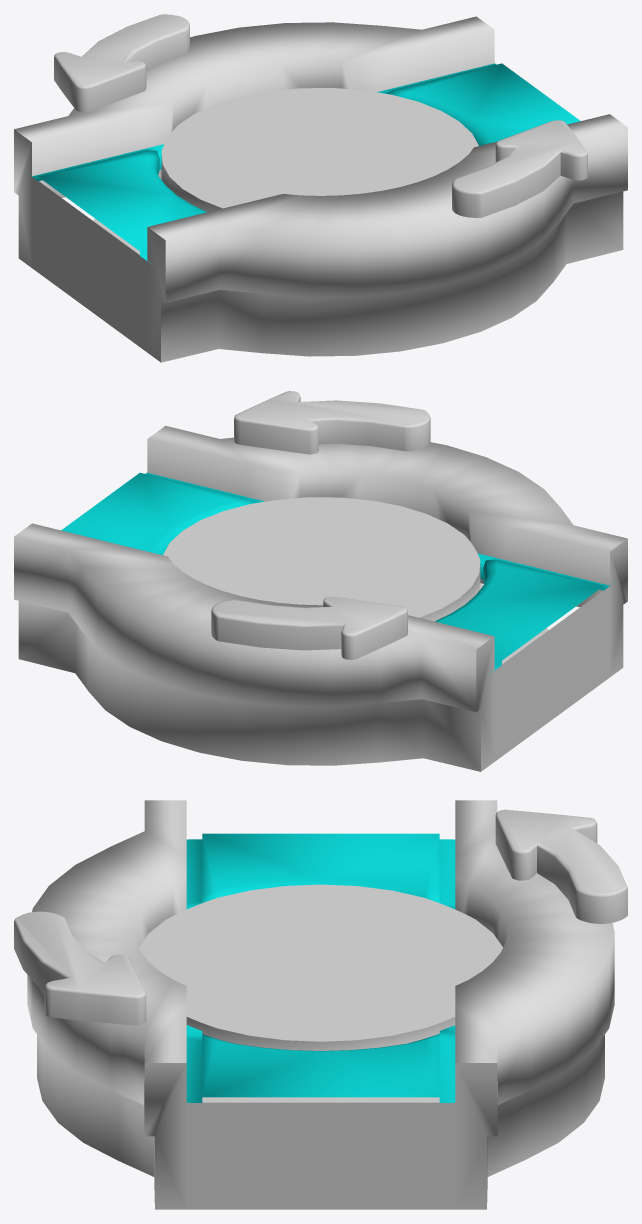
File: RotatorOneQuadCCWInternalVariant.gltf
3 views of the same model, one above another, from view 1: azimuth 30°, elevation 25°; view 2: azimuth 150°, elevation 25°; view 3: azimuth 270°, elevation 25° (orthographic). The views are drawn at different scales.
Parts seen in each view (by area): view 1: Rotator_90CCW_Main_LOD0, Rotator_90CCW_Arrows_LOD0; view 2: Rotator_90CCW_Main_LOD0, Rotator_90CCW_Arrows_LOD0; view 3: Rotator_90CCW_Main_LOD0, Rotator_90CCW_Arrows_LOD0.
Part boxes in pixels (left/top/right/bottom): Rotator_90CCW_Main_LOD0: left=14, top=14, right=627, bottom=362; Rotator_90CCW_Arrows_LOD0: left=158, top=88, right=478, bottom=212; Rotator_90CCW_Main_LOD0: left=14, top=391, right=627, bottom=771; Rotator_90CCW_Arrows_LOD0: left=163, top=497, right=483, bottom=621; Rotator_90CCW_Main_LOD0: left=14, top=800, right=627, bottom=1209; Rotator_90CCW_Arrows_LOD0: left=139, top=884, right=502, bottom=1050.
Bounding box in the file's own units: 1 × 0.3117 × 0.9876.
